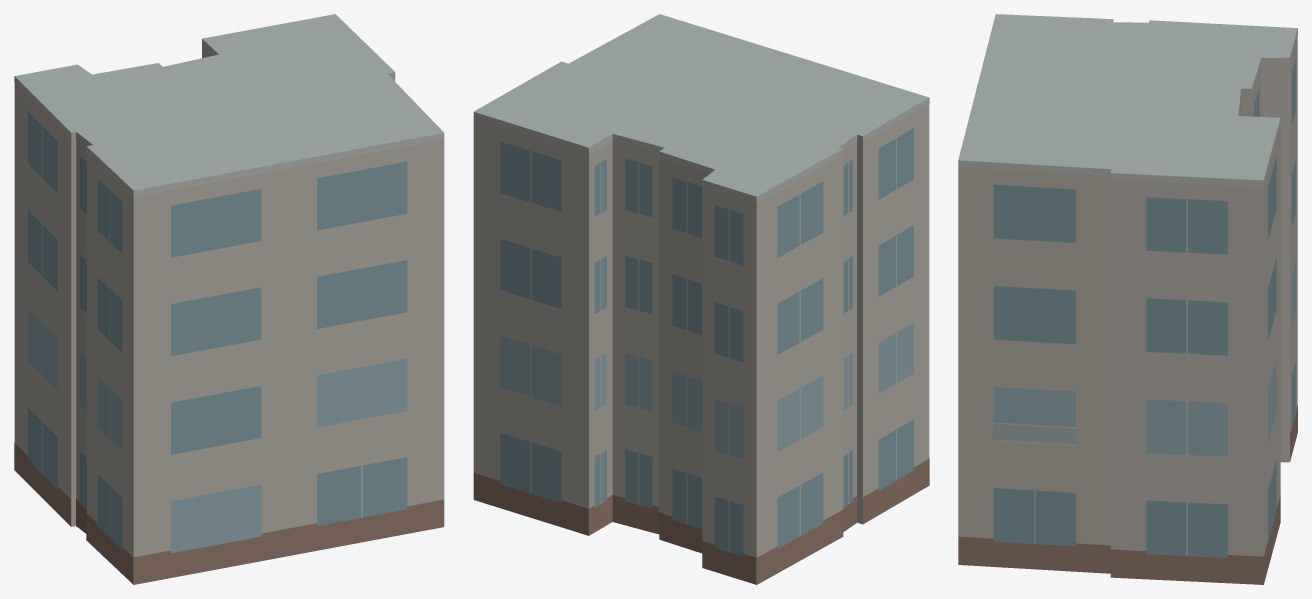
File: survey-upis-32804983.glb
The picture shows the model from 3 angles, left to right: view 1: azimuth 30°, elevation 25°; view 2: azimuth 150°, elevation 25°; view 3: azimuth 270°, elevation 25°; orthographic projection. The views are drawn at different scales.
Visible parts, largest first — view 1: survey-upis-32804983.tmp; view 2: survey-upis-32804983.tmp; view 3: survey-upis-32804983.tmp.
Part boxes in pixels (box(x1,y1,x2,y2)): survey-upis-32804983.tmp: box(14, 14, 444, 584); survey-upis-32804983.tmp: box(473, 14, 929, 584); survey-upis-32804983.tmp: box(958, 14, 1297, 584).
Size of the model in its own units: 12.94 by 14.65 by 11.16.
